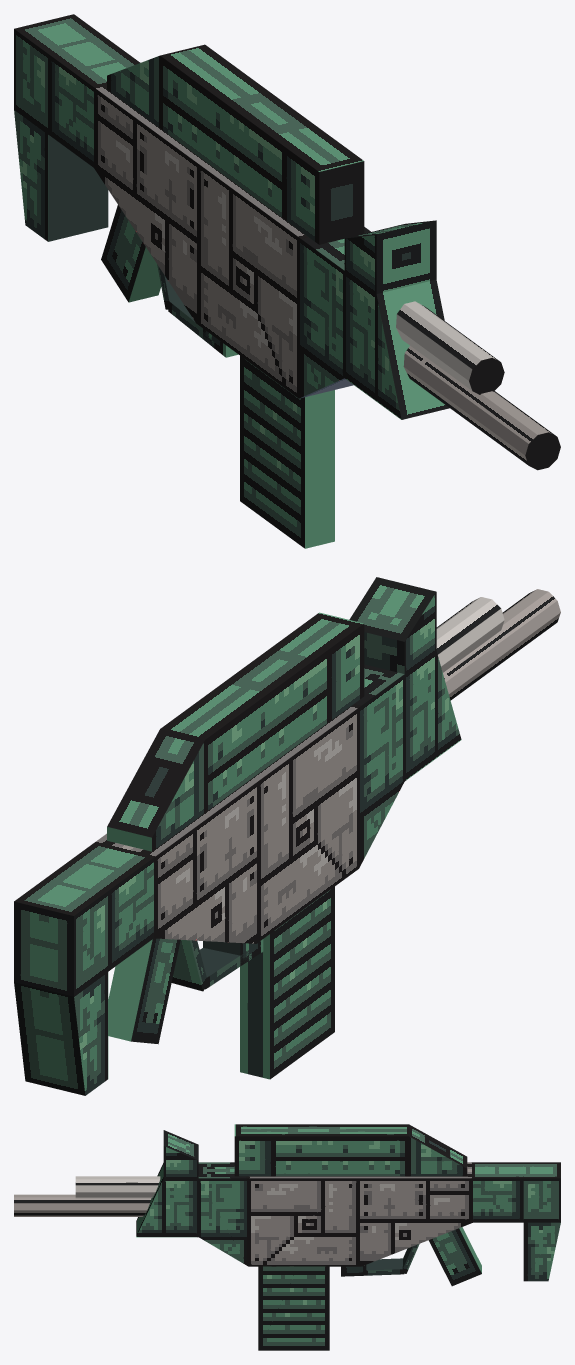
Rendered from Rifle.gltf.
3 renders of one model, top to bottom at view 1: azimuth 30°, elevation 25°; view 2: azimuth 150°, elevation 25°; view 3: azimuth 270°, elevation 25°, orthographic. The views are drawn at different scales.
Parts seen in each view (by area): view 1: Body, Site, Magazine, Barrel (×2), Grip, TriggerGuard; view 2: Body, Site, Magazine, Barrel (×2), Grip, TriggerGuard; view 3: Body, Site, Magazine, Barrel (×2), Grip, TriggerGuard.
Boxes of the visible parts, x1,y1,x2,y2 form: Body: [14, 14, 449, 419]; Site: [107, 44, 364, 244]; Magazine: [240, 356, 334, 548]; Barrel (×2): [396, 301, 560, 470]; Grip: [101, 205, 161, 302]; TriggerGuard: [157, 264, 238, 357]; Body: [14, 577, 461, 1095]; Site: [107, 612, 364, 851]; Magazine: [240, 886, 334, 1079]; Barrel (×2): [436, 589, 560, 700]; Grip: [108, 938, 180, 1044]; TriggerGuard: [171, 939, 263, 991]; Body: [136, 1130, 560, 1281]; Site: [234, 1124, 467, 1176]; Magazine: [258, 1266, 329, 1350]; Barrel (×2): [14, 1176, 160, 1216]; Grip: [428, 1227, 481, 1286]; TriggerGuard: [341, 1244, 419, 1276].
Bounding box in the file's own units: 0.1 × 0.6281 × 1.44.
Materials: 1 (1 with a texture image).
